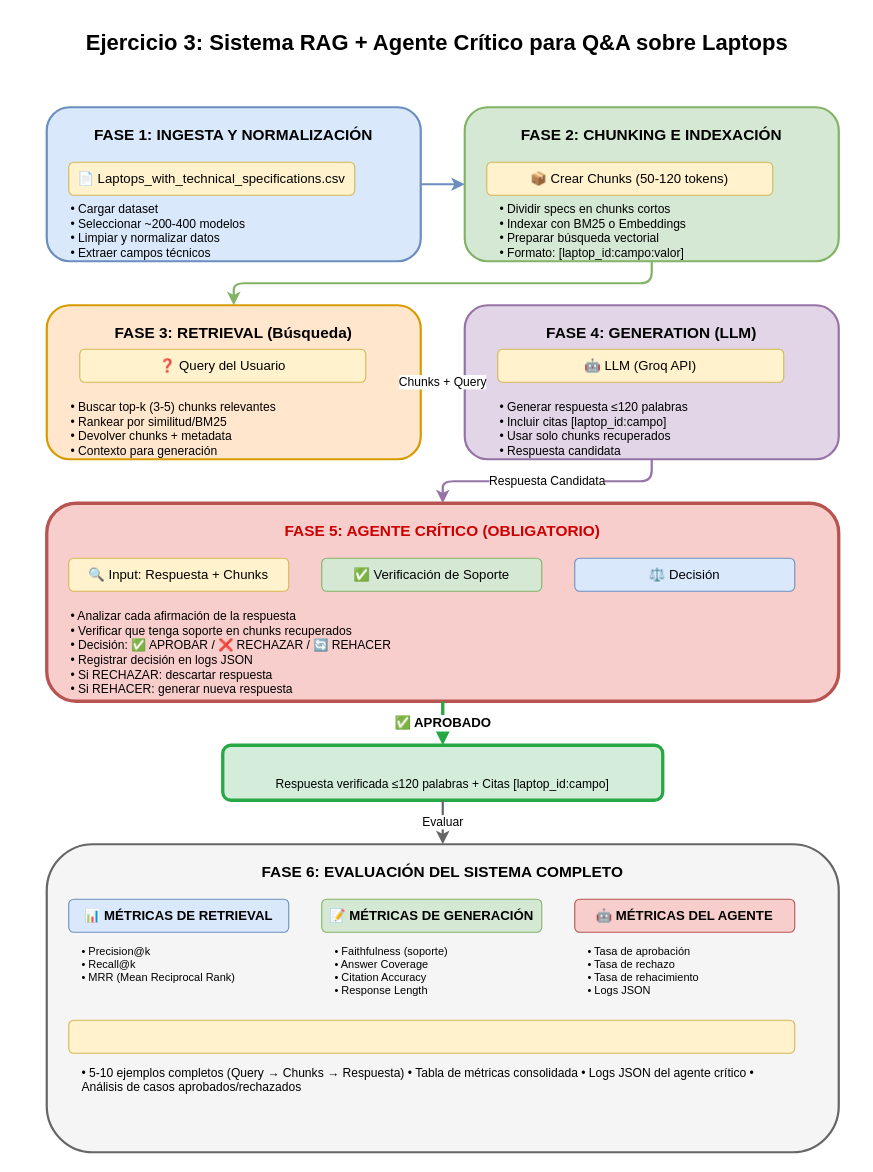
The diagram is 873 pixels wide and 1172 high, and some of its shapes have lost their labels. The shapes that lost their labels are listed below. From the top down, each one's box as (x1, y1, x2, y2) in pixels, then its label:
(221, 743, 664, 801): 🎯 RESPUESTA APROBADA
(68, 1019, 795, 1053): 📋 ENTREGABLES
